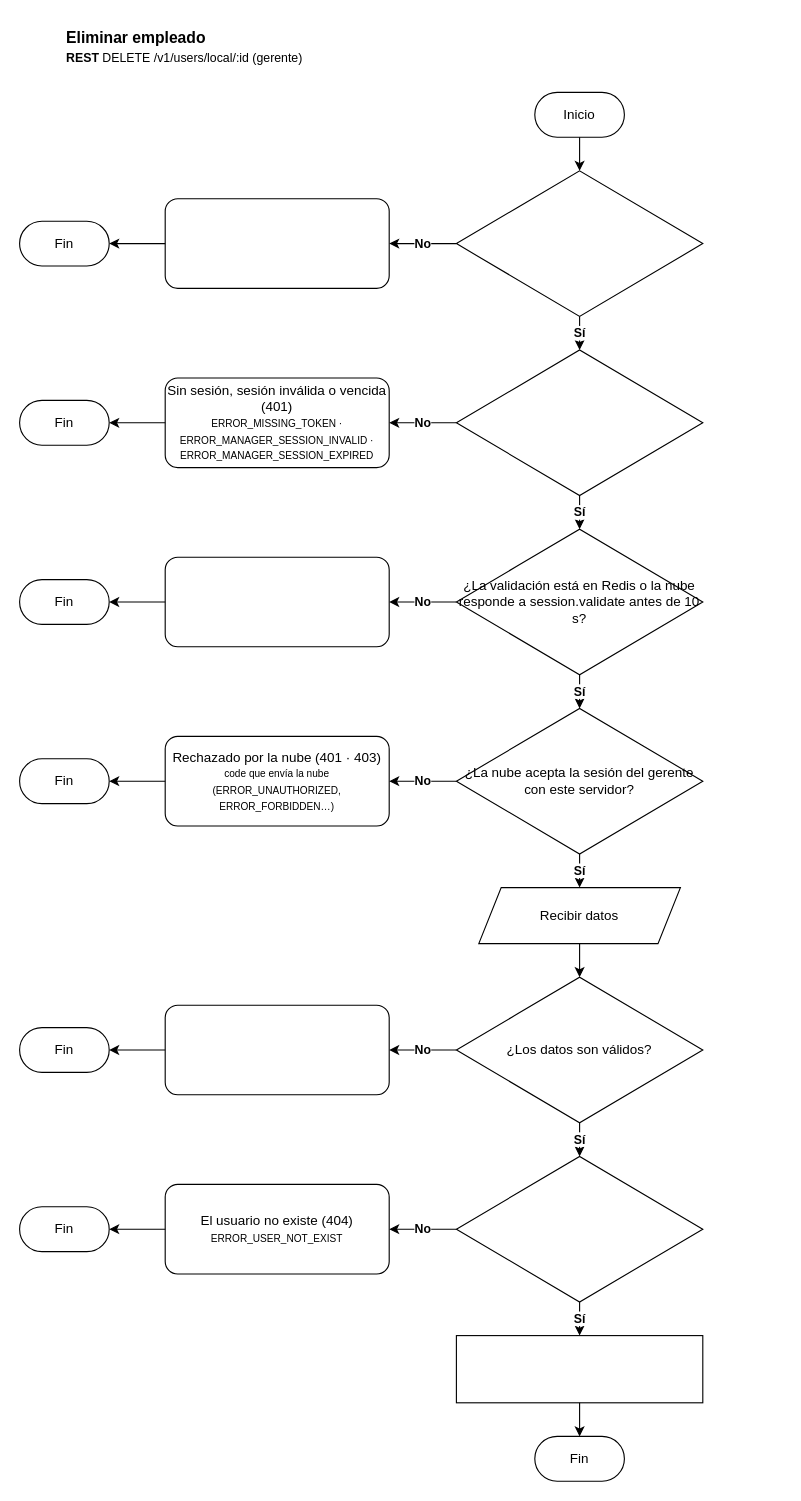
This 801x1501 diagram has some shape labels left out. Here are the shapes that lost their labels. From the top down, the centre of each, then its label:
the point at 276,243: Servidor sin emparejar (409) ERROR_SERVER_NOT_PAIRED
the point at 579,243: ¿El servidor ya se emparejó alguna vez (pairing_status distinto de unpaired)?
the point at 579,422: ¿Trae una sesión de gerente válida (Bearer mss_..., sin 30 min de inactividad)?
the point at 276,601: La nube no responde (503) ERROR_CLOUD_UNAVAILABLE · ERROR_SERVER_UNLINKED
the point at 276,1049: Datos inválidos (400) ERROR_BAD_REQUEST
the point at 579,1228: ¿Existe el empleado?
the point at 579,1368: Responder 200 con el mensaje USER_DELETED
